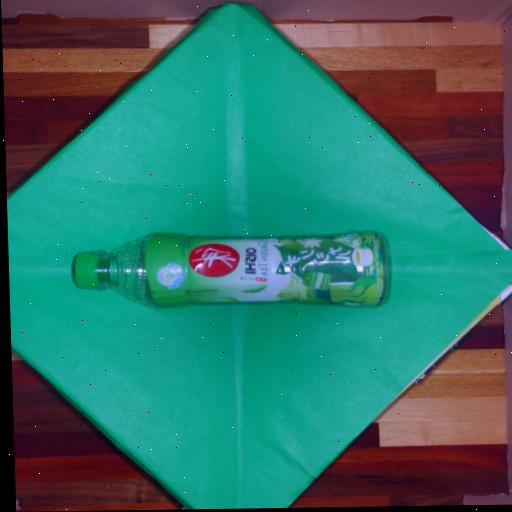bottle: (42, 213, 415, 334)
